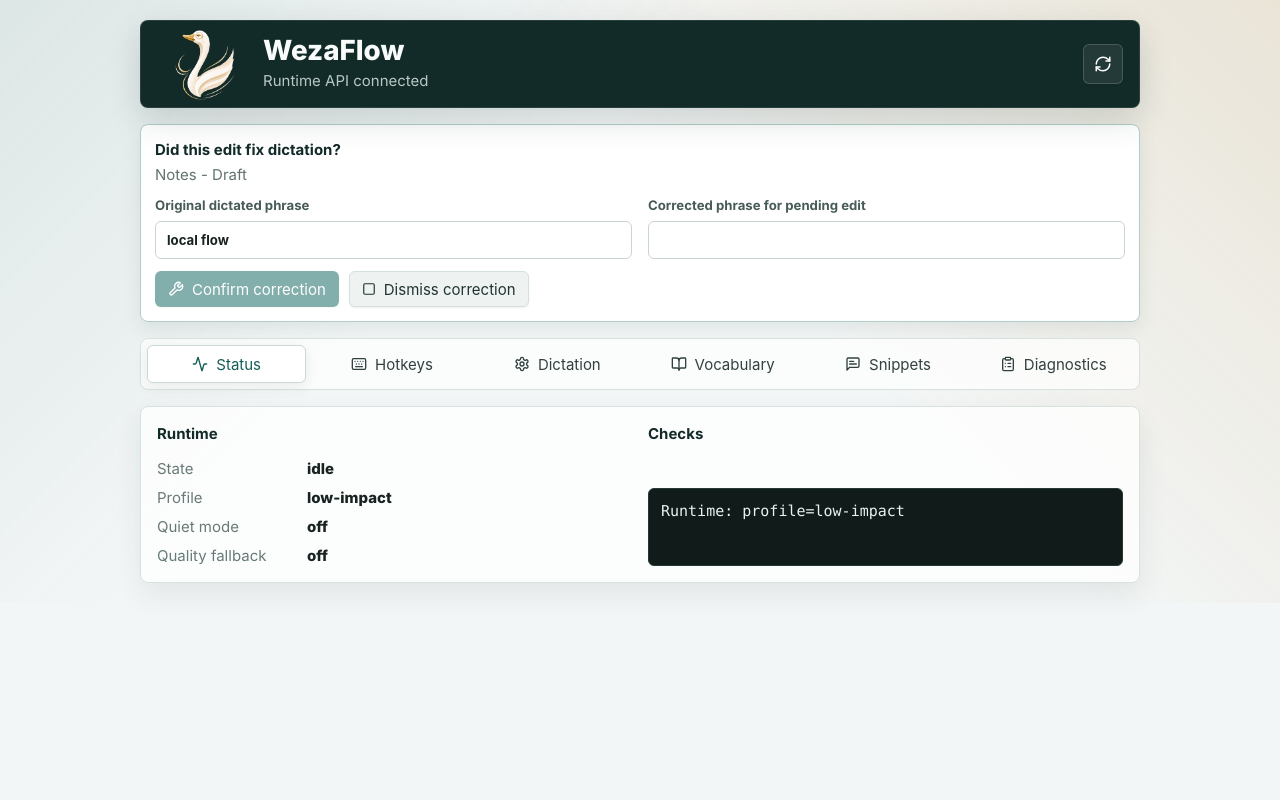
Test: App › polls for a new pending correction, focuses the desktop window, and confirms it
Expected: the heading "WezaFlow" is shown, [263, 37, 428, 64]
Expected: the heading "Did this edit fix dictation?" is shown, [155, 140, 341, 159]
In the field labelled "Corrected phrase for pending edit": (886, 240) [648, 222, 1125, 260], type "LocalFlow"
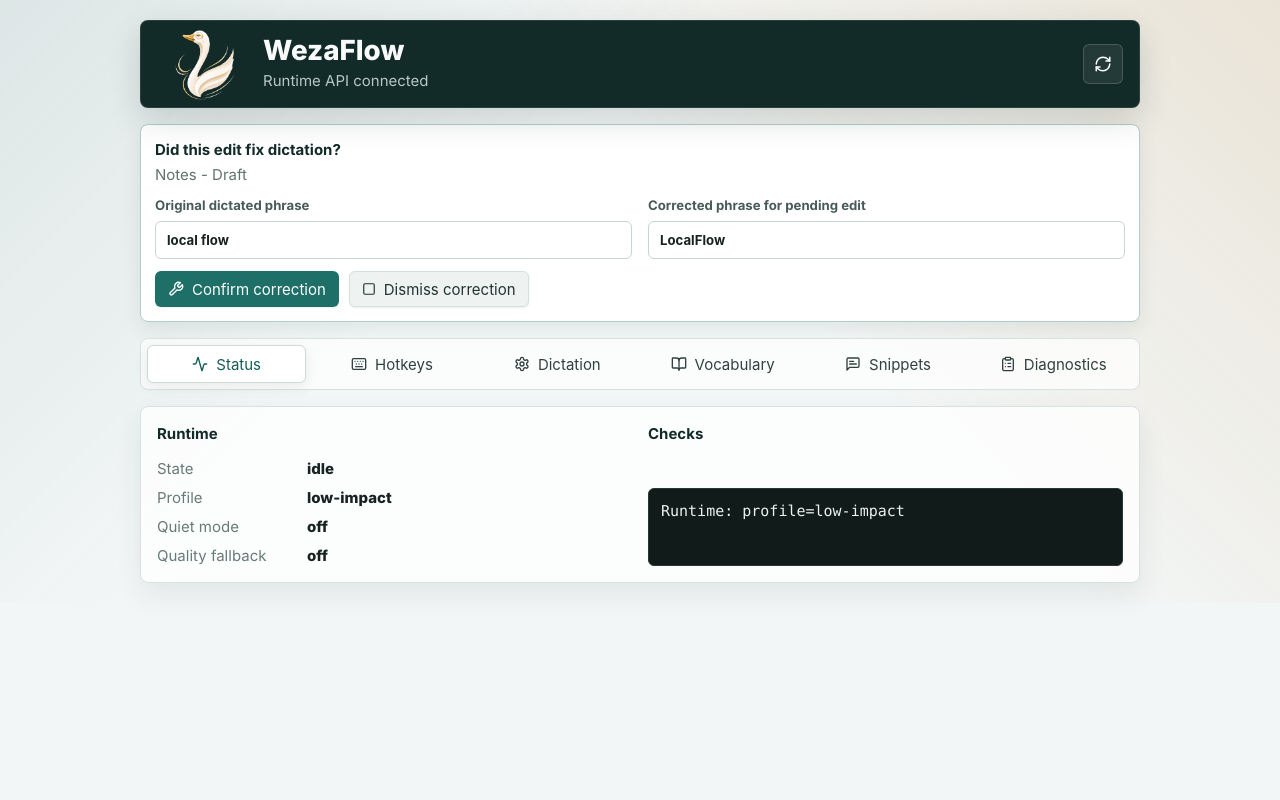
Click the button "Confirm correction": click(247, 290) [155, 272, 339, 308]
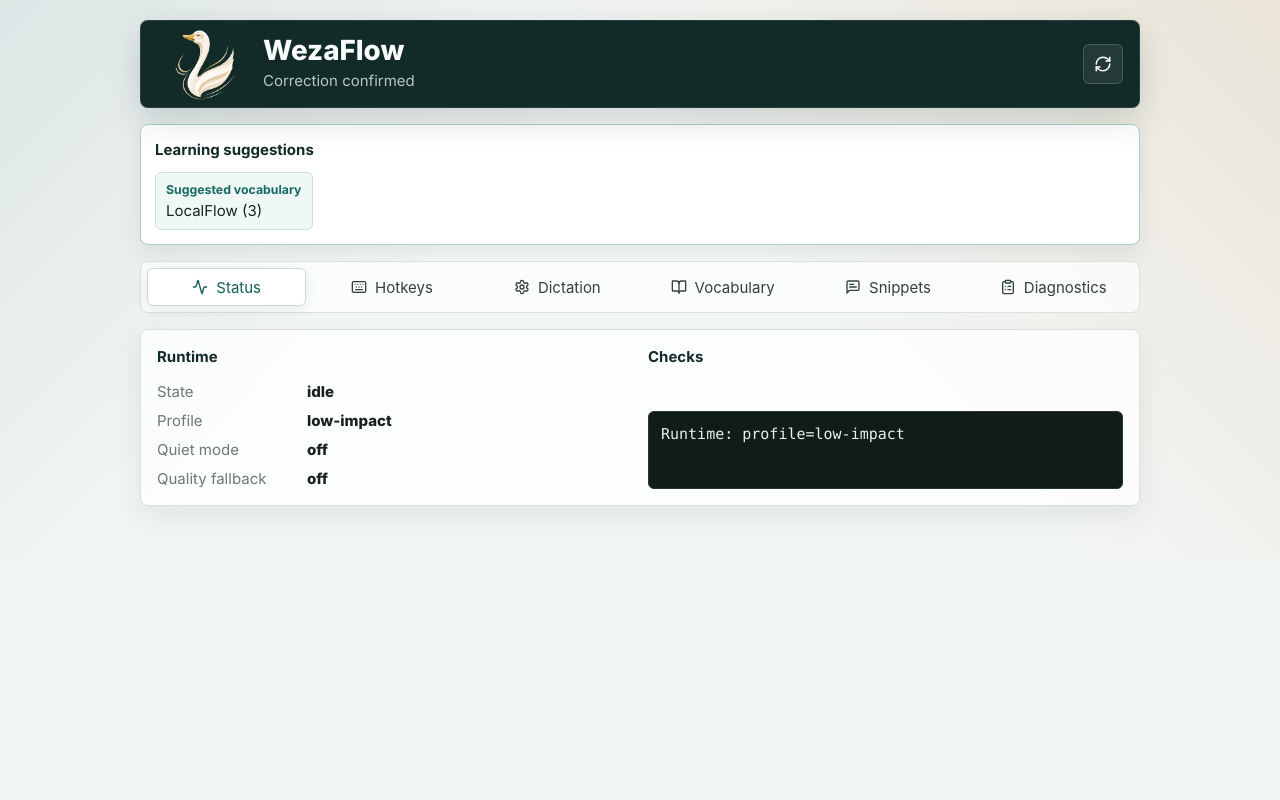
Expected: the text "Suggested vocabulary" is shown, [166, 181, 302, 198]
Expected: the text "LocalFlow (3)" is shown, [166, 201, 262, 220]
